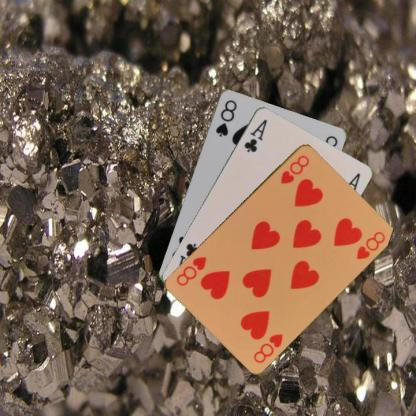8h: (277, 152, 311, 185), (251, 330, 284, 364)
8s: (213, 97, 238, 138)
Ac: (241, 116, 268, 154)
